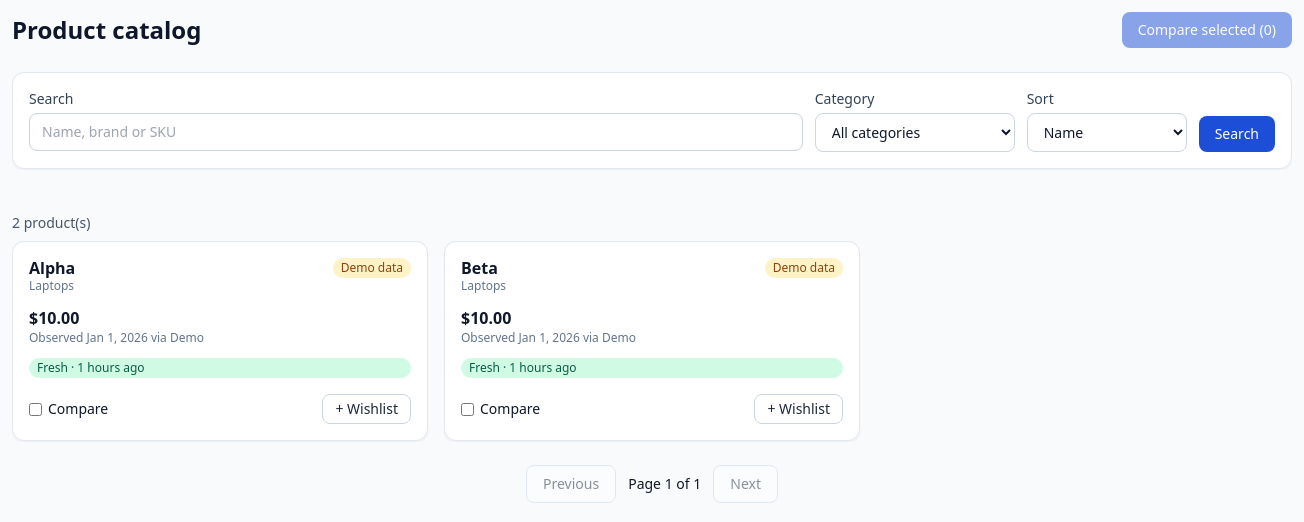
Test: catalog › limits comparison to enabling after two selections
The image size is (1304, 522).
Expected: the link "Alpha" is shown, [29,257,75,279]
Expected: the button "Compare selected (0)" is disabled, [1122,12,1292,48]
Click the checkbox named "Compare Alpha" at (36, 409), box [29,402,42,416]
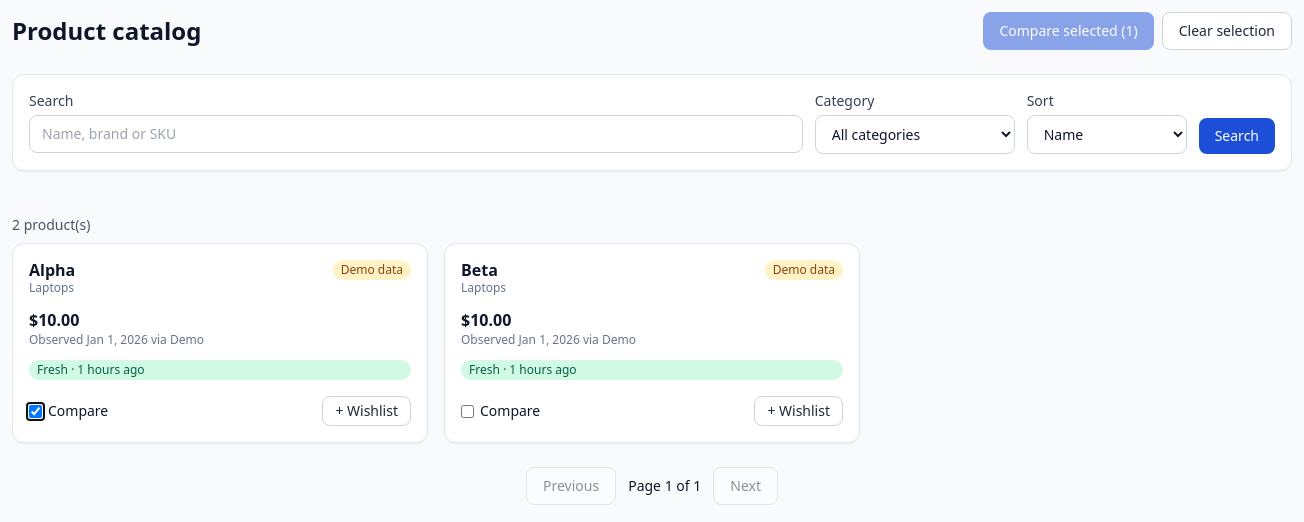
Click the checkbox named "Compare Beta" at (468, 411), box [461,404,474,418]
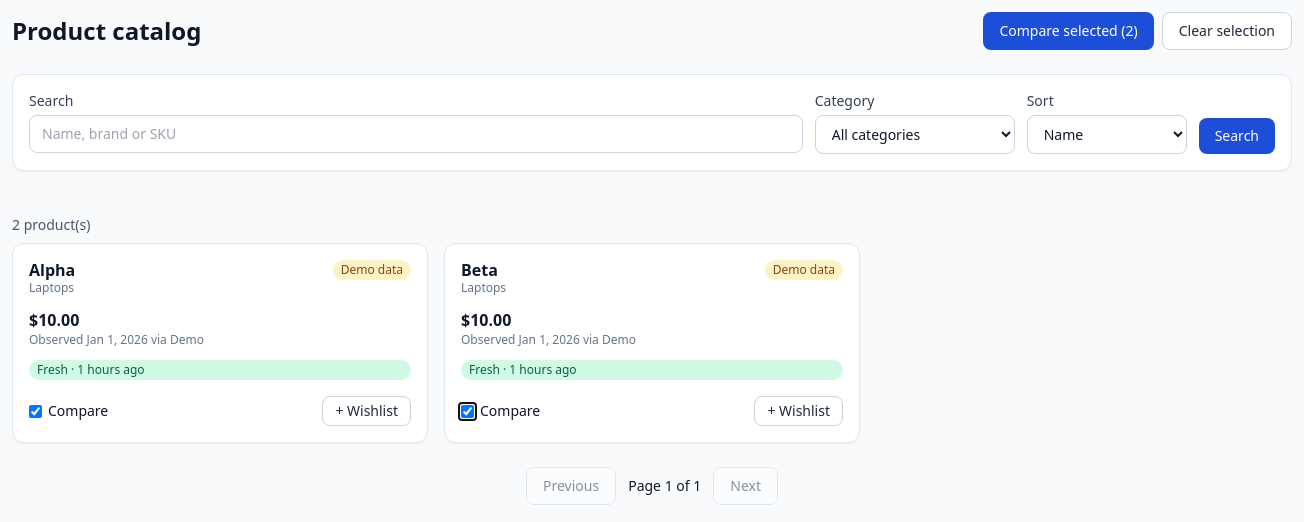
Now the button "Compare selected (2)" is enabled, box [983,12,1154,50]
